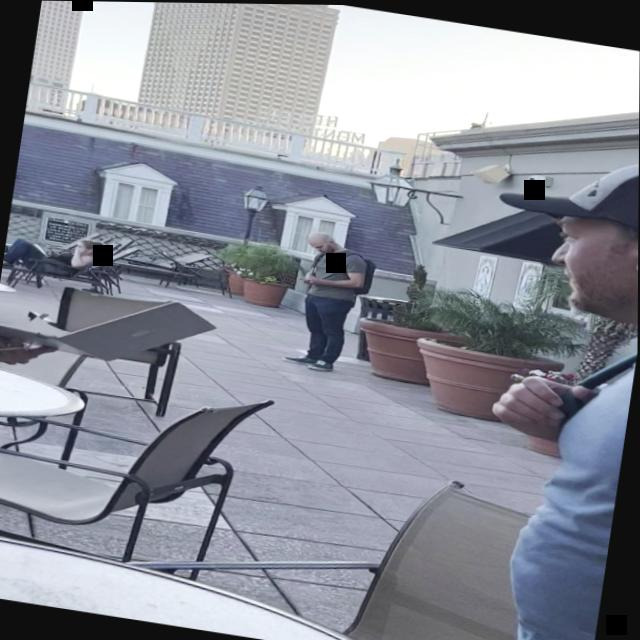NO-Mask: (545, 213, 639, 319), (311, 238, 336, 255), (74, 239, 89, 253)
